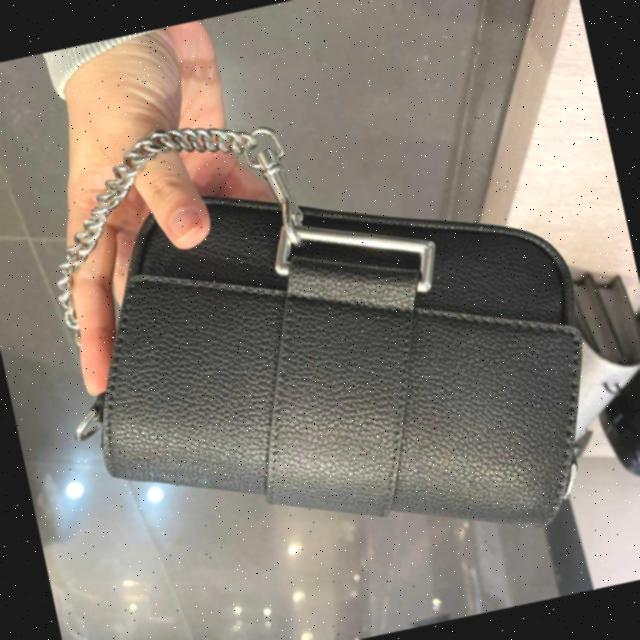handbag: (6, 109, 636, 624)
